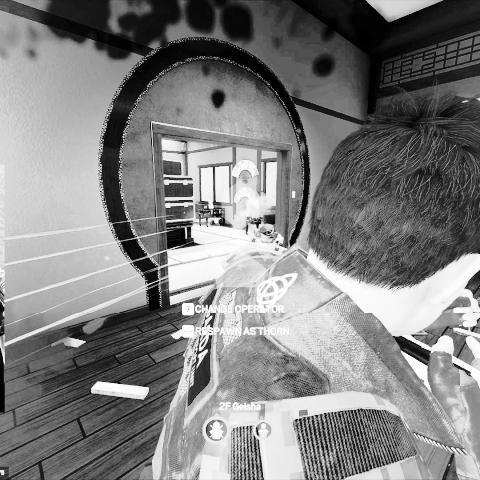Character: (150, 87, 480, 480), (249, 222, 284, 248)
Head: (310, 93, 480, 340), (258, 223, 274, 241)
